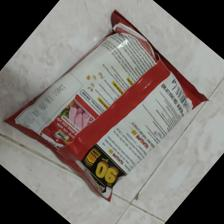Kokomi: (1, 11, 208, 200)
